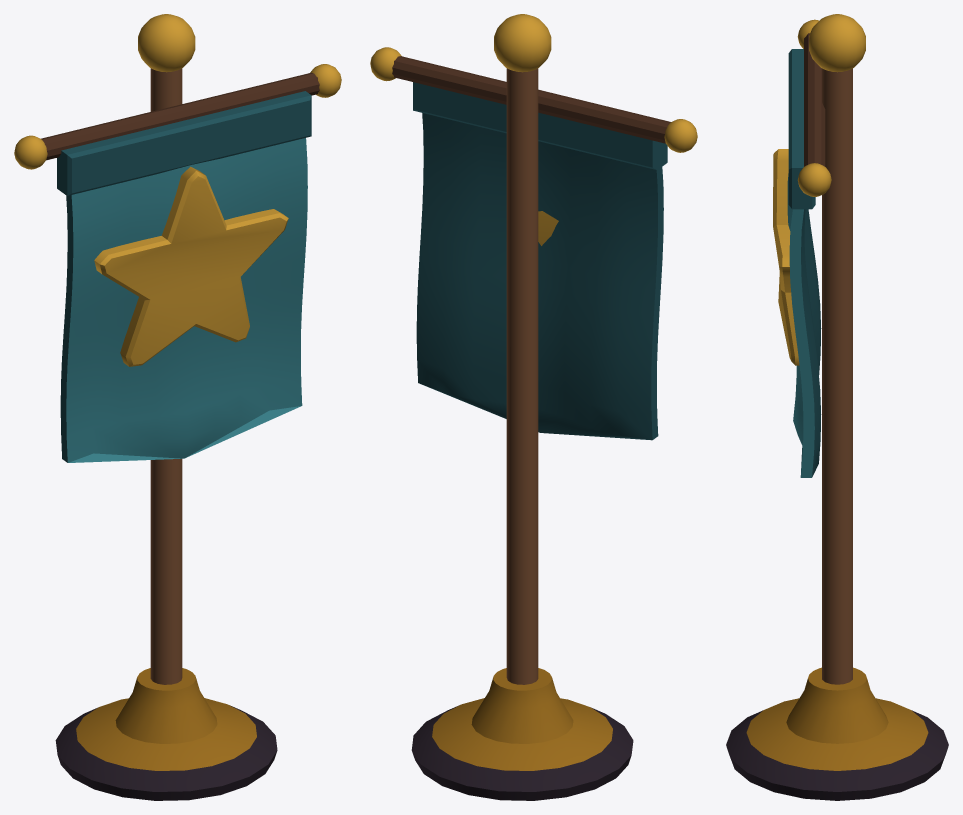
Rendered from Banner_08.glb.
3 views of the same model, side by side, from view 1: azimuth 30°, elevation 25°; view 2: azimuth 150°, elevation 25°; view 3: azimuth 270°, elevation 25° (orthographic).
Visible parts, largest first — view 1: Banner_08; view 2: Banner_08; view 3: Banner_08.
Part boxes in pixels (box(x1,y1,x2,y2)): Banner_08: box(14, 14, 341, 800); Banner_08: box(370, 14, 697, 800); Banner_08: box(726, 14, 948, 800).
Size of the model in its own units: 3.28 by 7.16 by 1.96.
